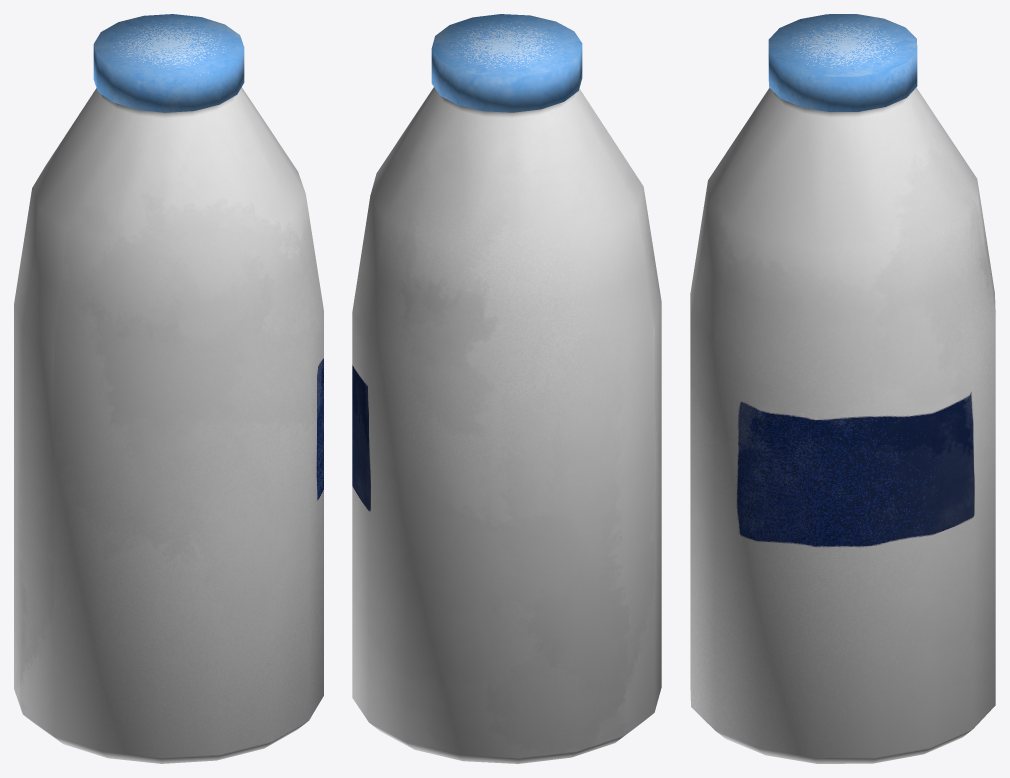
The model's file is lait-model.glb.
3 renders of one model, left to right at view 1: azimuth 30°, elevation 25°; view 2: azimuth 150°, elevation 25°; view 3: azimuth 270°, elevation 25°, orthographic.
Visible parts, largest first — view 1: lait; view 2: lait; view 3: lait.
Boxes of the visible parts, <box> form: lait: <box>14,14,323,763</box>; lait: <box>352,14,661,763</box>; lait: <box>690,14,995,763</box>.
Size of the model in its own units: 1.49 by 3.54 by 1.49.
Materials: 1 (1 with a texture image).
